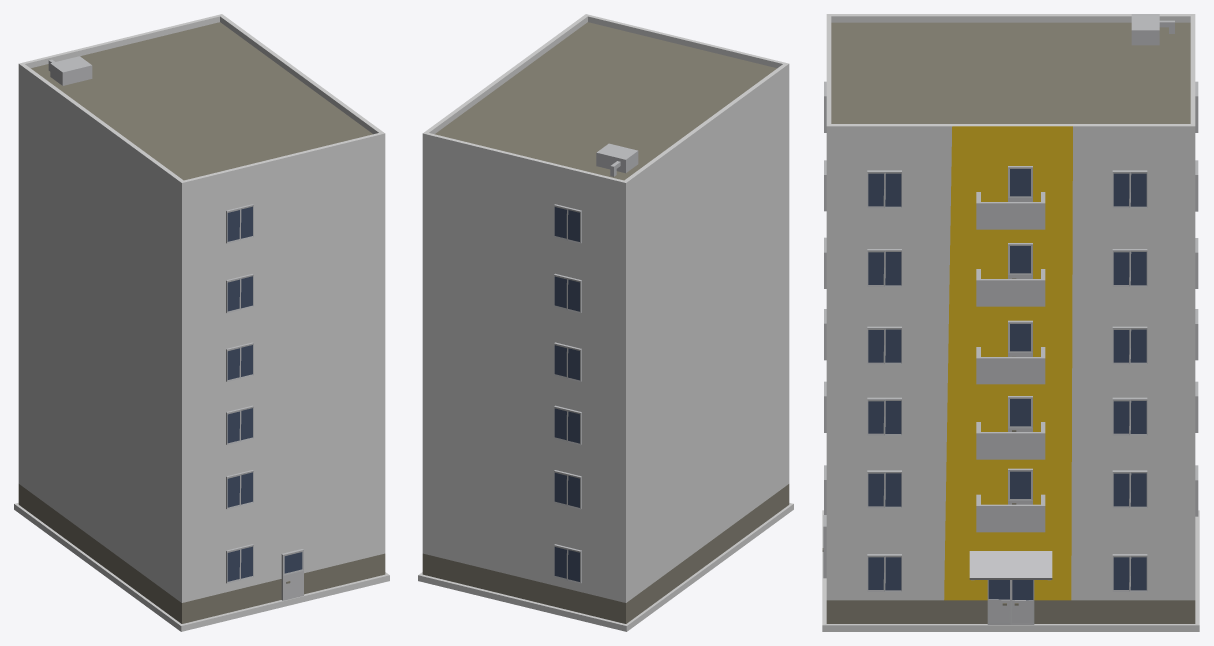
File: apartment_complex_07.glb
3 views of the same model, side by side, from view 1: azimuth 30°, elevation 25°; view 2: azimuth 150°, elevation 25°; view 3: azimuth 270°, elevation 25° (orthographic). The views are drawn at different scales.
Parts seen in each view (by area): view 1: Cube.001; view 2: Cube.001; view 3: Cube.001.
Boxes of the visible parts, bbox=[...] form: Cube.001: bbox=[14, 14, 389, 631]; Cube.001: bbox=[418, 14, 793, 631]; Cube.001: bbox=[822, 14, 1199, 631].
Size of the model in its own units: 1.77 by 3.28 by 2.19.
